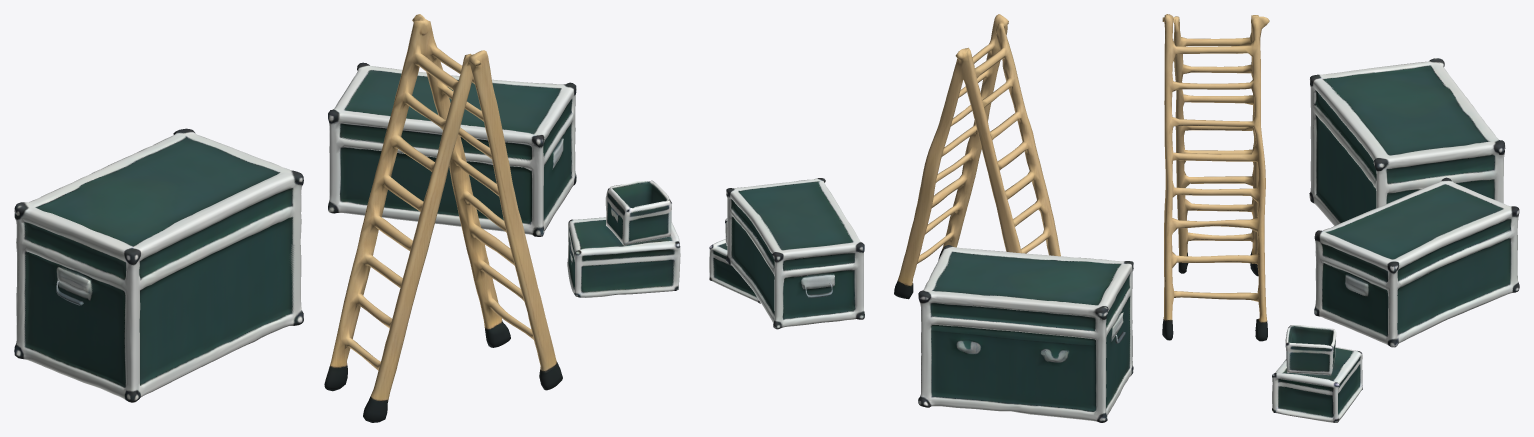
Rendered from original.glb.
The picture shows the model from 3 angles, left to right: view 1: azimuth 30°, elevation 25°; view 2: azimuth 150°, elevation 25°; view 3: azimuth 270°, elevation 25°; orthographic projection. The views are drawn at different scales.
Visible parts, largest first — view 1: model; view 2: model; view 3: model.
Part boxes in pixels (box(x1,y1,x2,y2)): model: box(14, 14, 680, 422); model: box(709, 14, 1133, 422); model: box(1162, 14, 1519, 422).
Bounding box in the file's own units: 1.89 × 1.09 × 1.19.
1 material, 1 textured.
